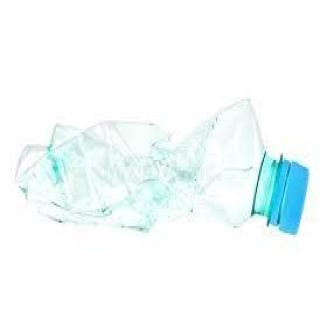Plastic-bottle: (13, 92, 312, 245)
